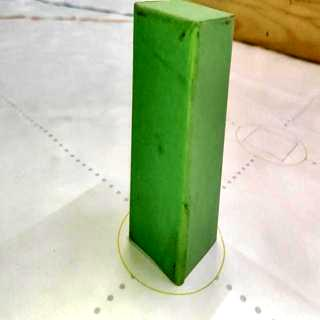greenbox: (132, 1, 228, 280)
